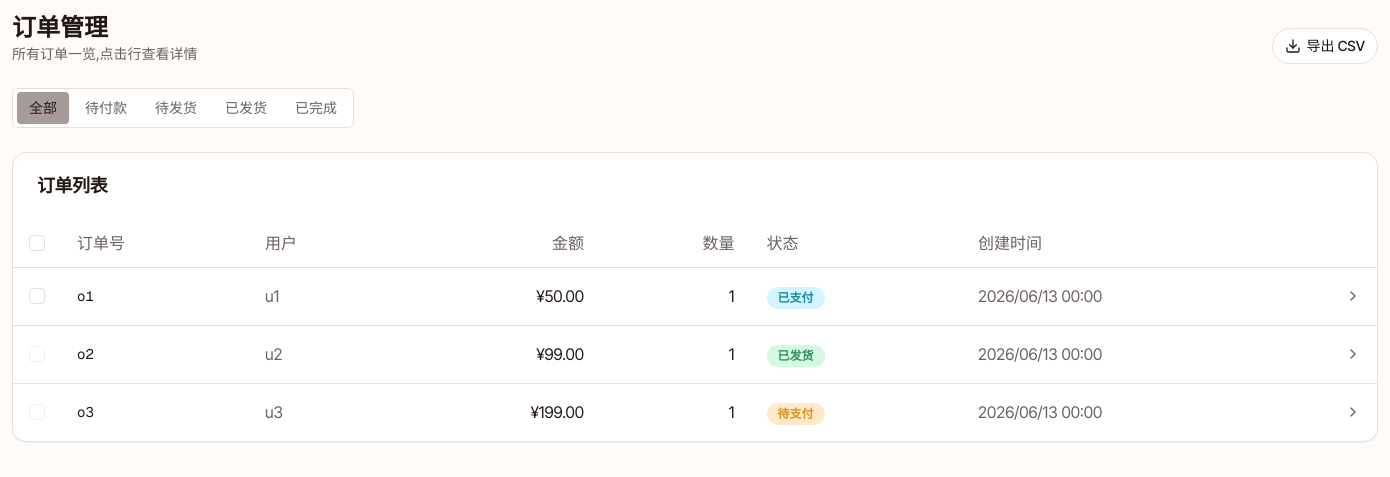
Test: OrderListPage › OD ad-05: 批量发货 pending 时显示 animate-spin 图标
Expected: the text "o1" is shown, [61, 267, 249, 325]
Click the checkbox named "选择订单 o1" at point(37, 296), box [29, 288, 45, 304]
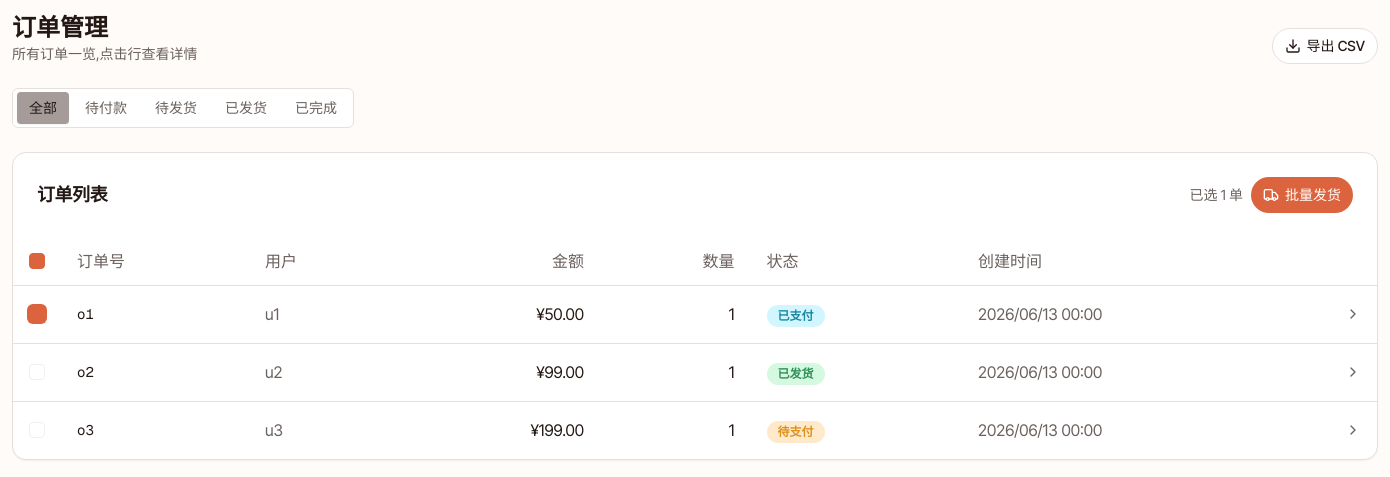
Click the button "批量发货" at point(1302, 195), box [1251, 177, 1353, 213]
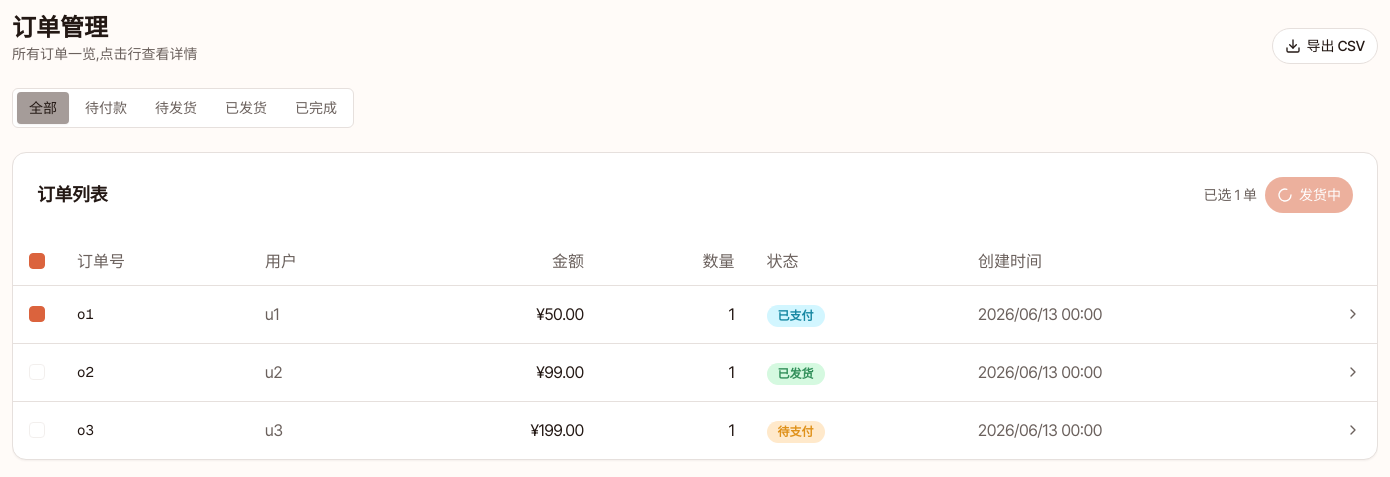
Result: the icon with class "animate-spin" is shown at [1277, 187, 1293, 203]
